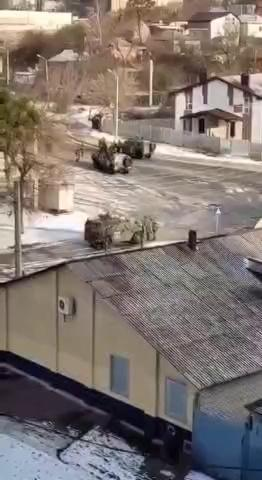armored_car: (84, 213, 148, 250), (111, 136, 156, 161), (92, 152, 133, 175)
